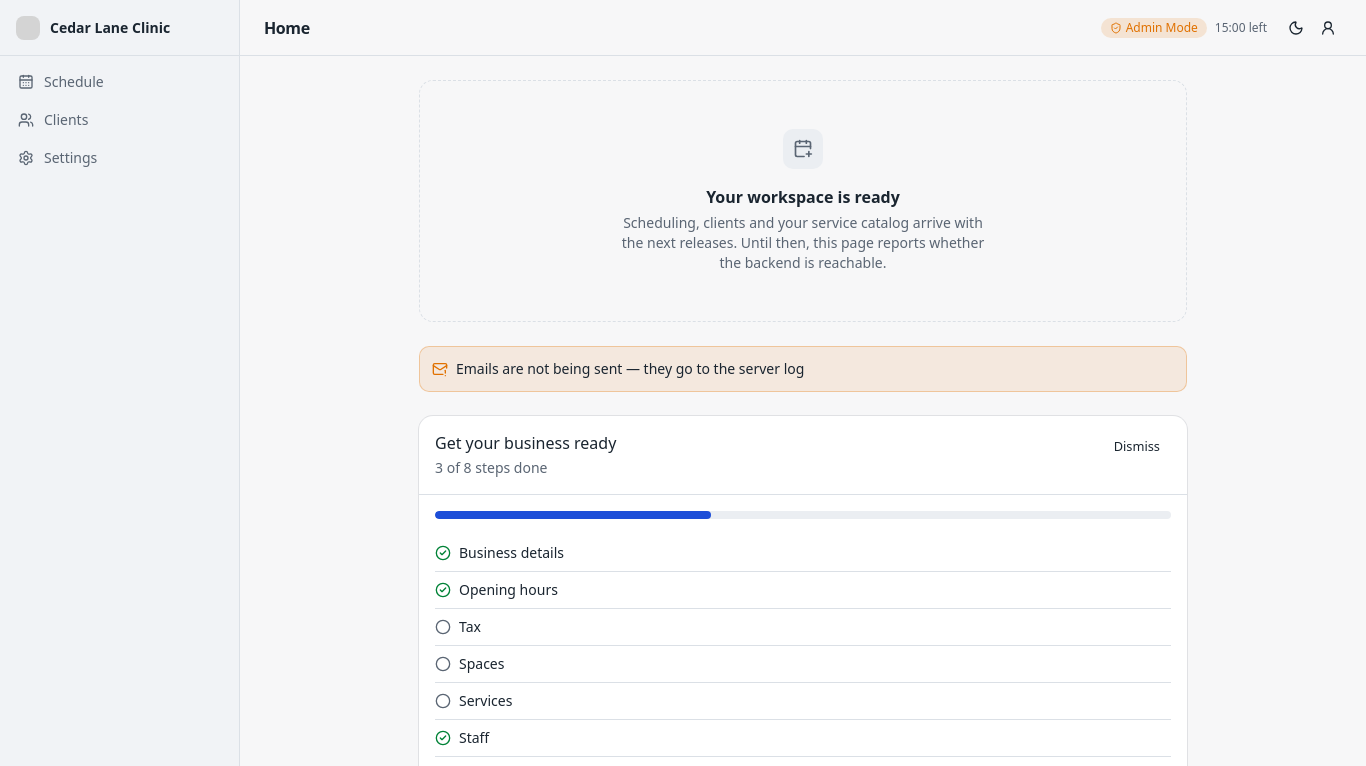
Test case: Dismiss removes the checklist from Home
This screenshot has width=1366, height=766.
Step 1. Click the button "Dismiss" → (1137, 446), box [1103,432,1171,460]
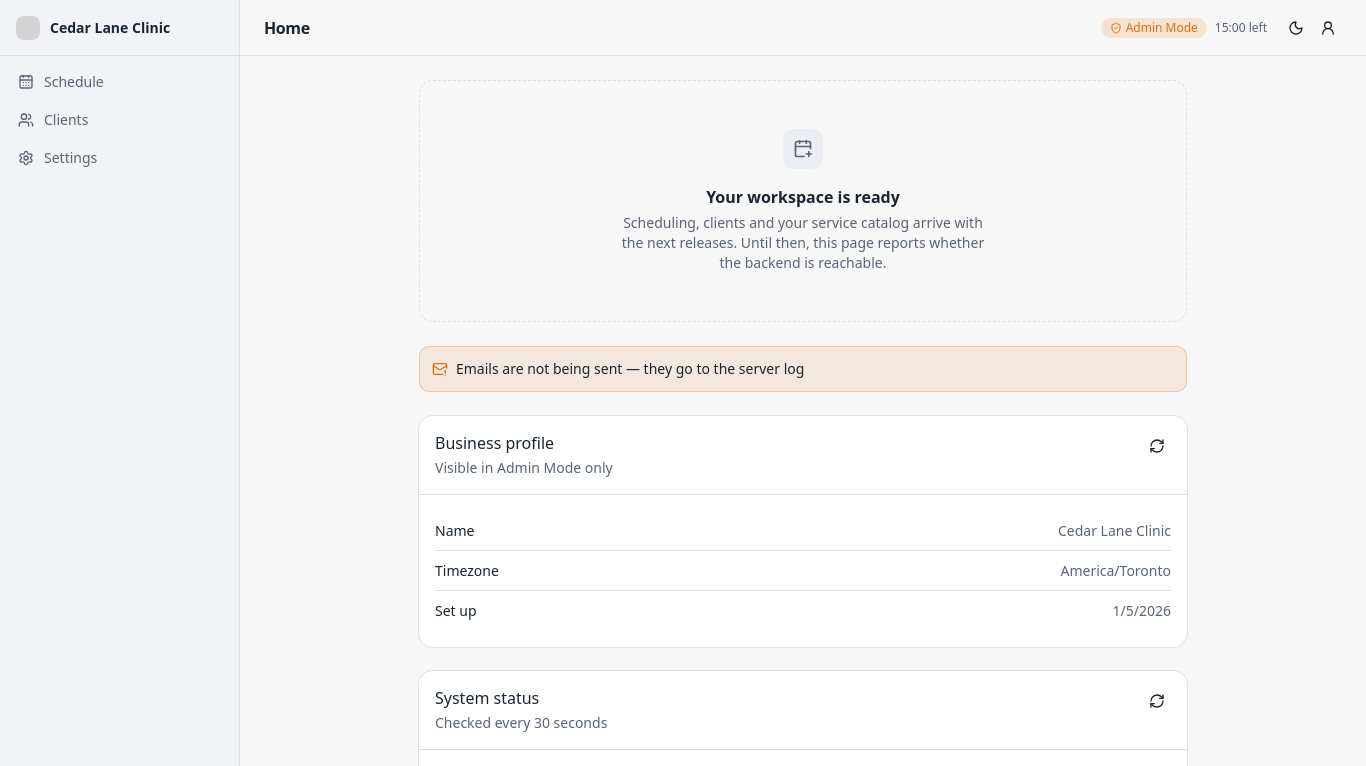
Expected: the text "Get your business ready" is gone
